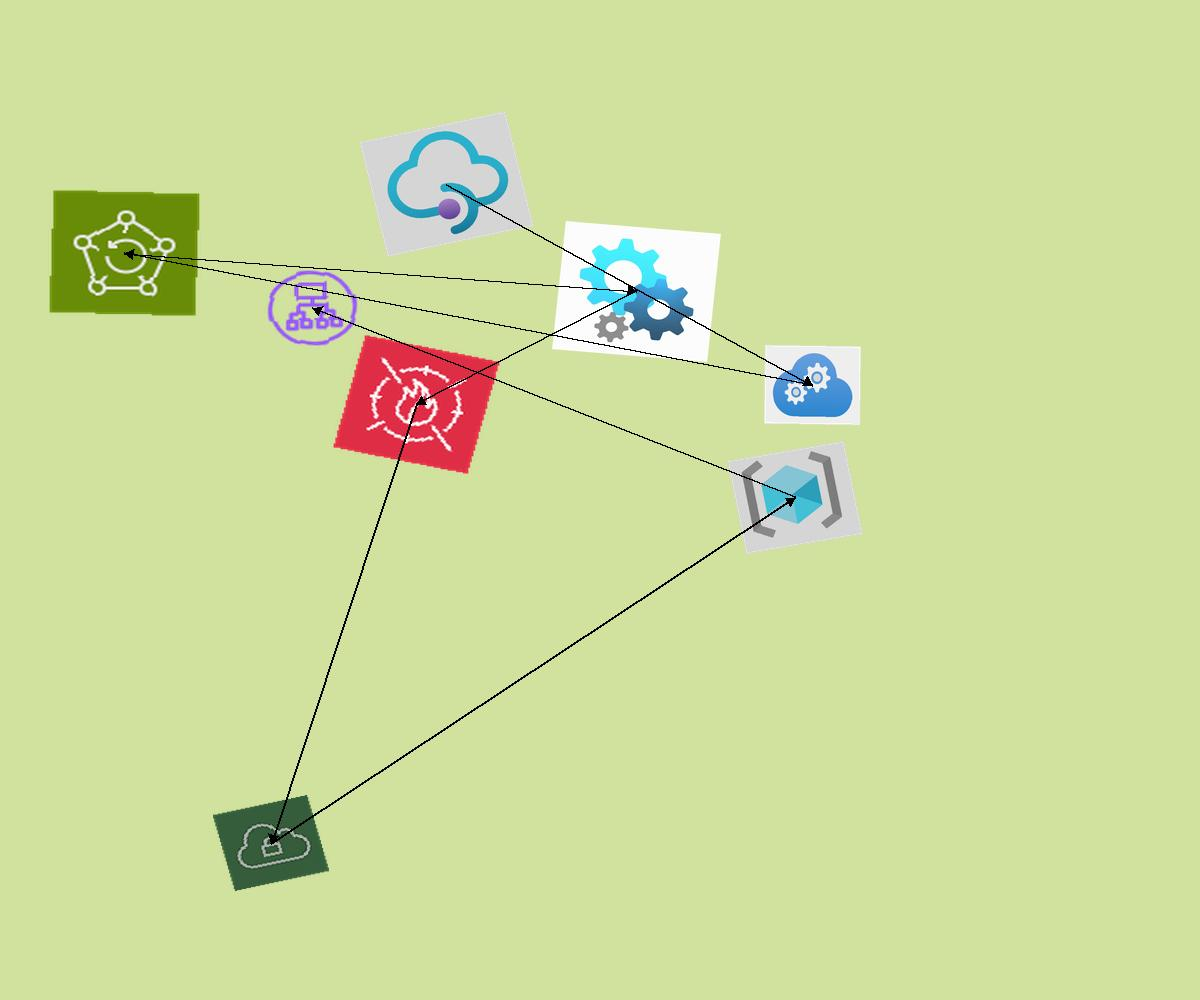AWS-Backup: (48, 189, 201, 317)
AWS-Private_vpc: (212, 794, 330, 892)
AWS-Res_Elastic-Load-Balancing_Application-Load-Balancer: (260, 264, 365, 352)
AWS-WAF: (332, 334, 501, 475)
Azure_api: (552, 221, 721, 362)
Azure_api_gateway: (359, 111, 534, 257)
Azure_cloud_services: (764, 345, 861, 425)
Azure_resource_group: (727, 441, 863, 554)
